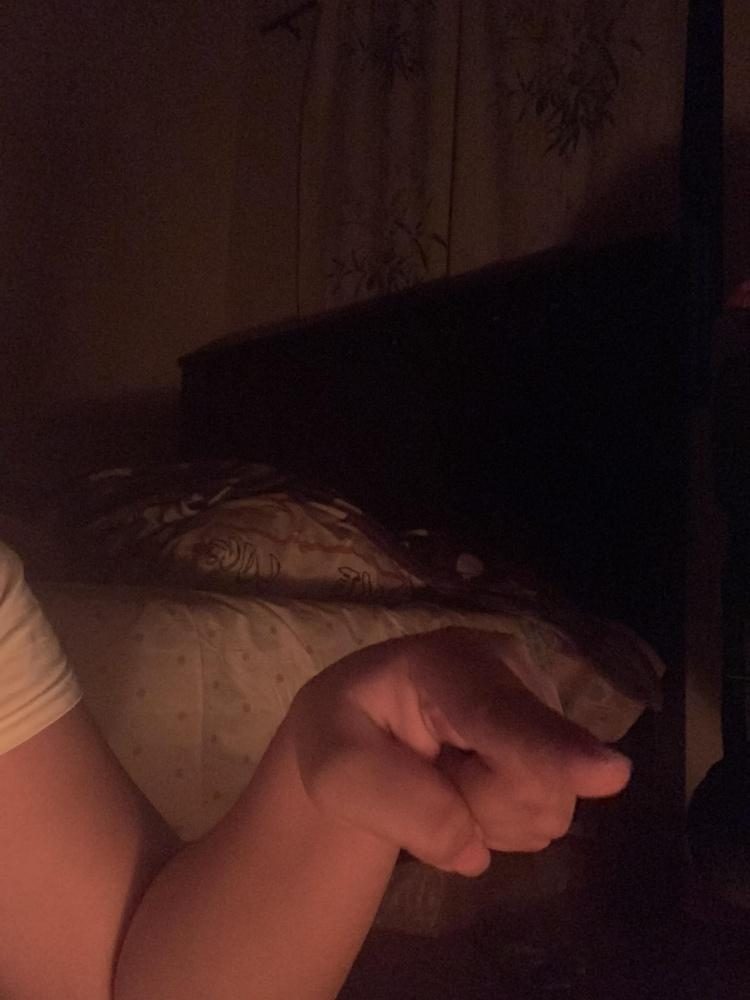z: (292, 627, 632, 878)
